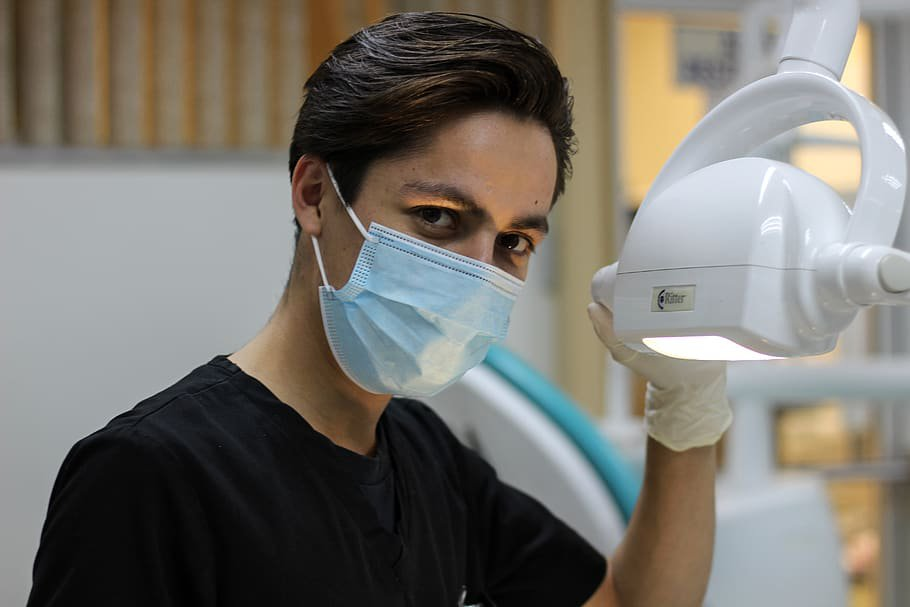mask: (271, 17, 572, 407)
